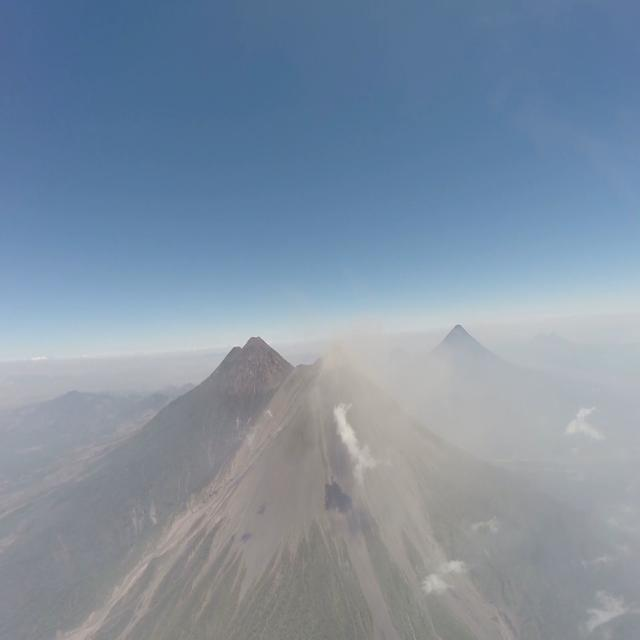Plume: (321, 307, 404, 427)
